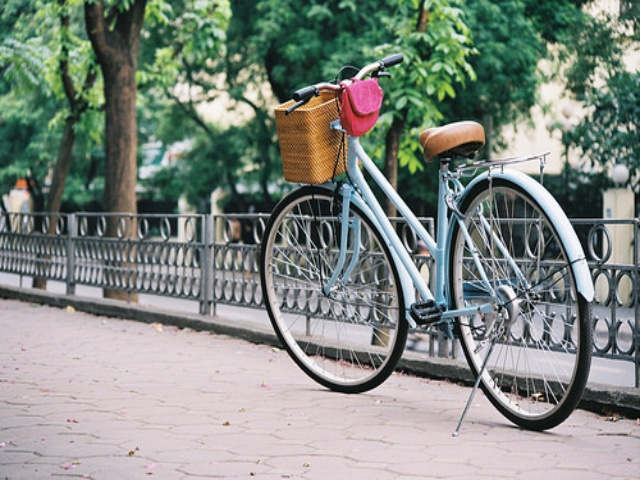Xe_dap: (258, 51, 597, 442)
